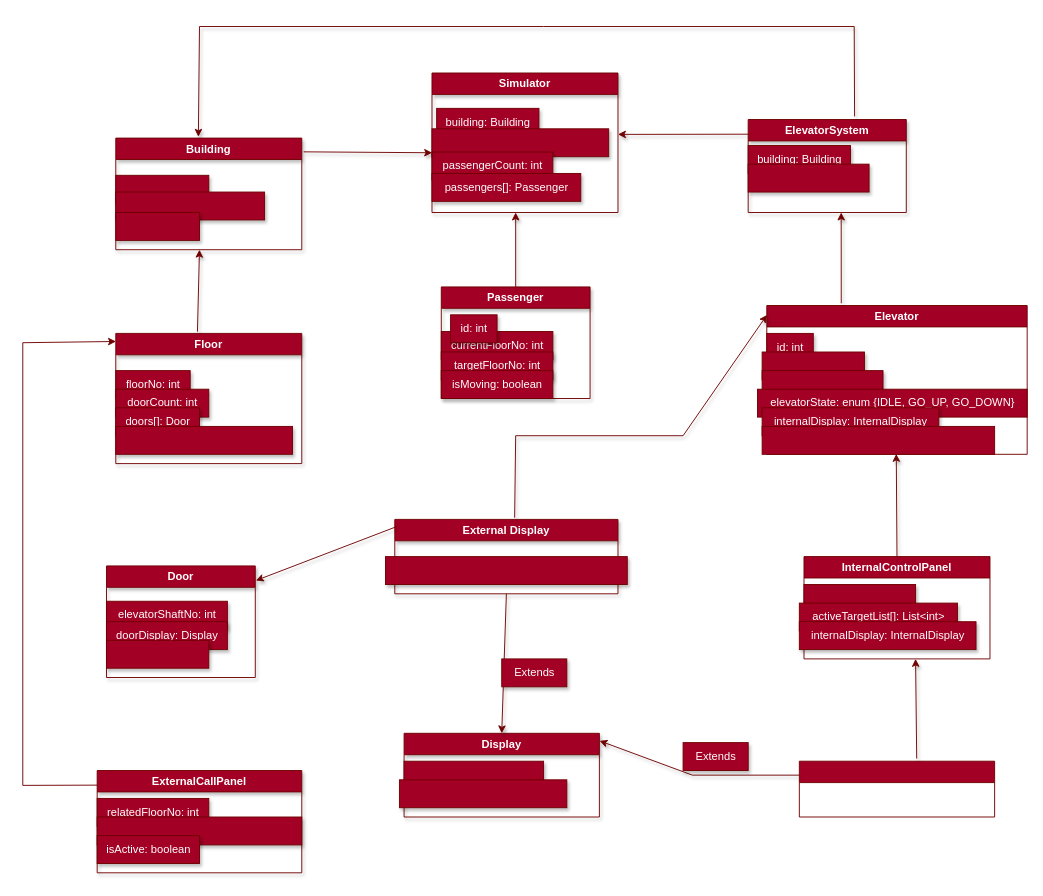
Some shapes in this 1043 by 896 pixel diagram are drawn without their labels. Each missing label, with the centre of its shape:
callPanels[]: ExternalCallPanel: (x=204, y=441)
capacity: int = 6: (x=813, y=366)
currentFloorNoOnDisplay: int: (x=483, y=794)
currentFlowNum: int: (x=823, y=385)
direction: enum {NONE, UP, DOWN}: (x=200, y=831)
directionDisplay: enum {NONE, UP, DOWN}: (x=507, y=571)
elevators[]: Elevator: (x=809, y=179)
evolatoSystem: EvolatoSystem: (x=520, y=143)
floorCount: int: (x=162, y=190)
floors[]: Floor: (x=158, y=227)
internalControlPanel: InternalControlPanel: (x=878, y=439)
InternalDisplay: (x=896, y=788)
isOpen: Boolean: (x=158, y=655)
numElevatorsPerFloor: int: (x=190, y=206)
relatedElevator: Elevator: (x=474, y=776)
relatedElevator: int: (x=860, y=599)
